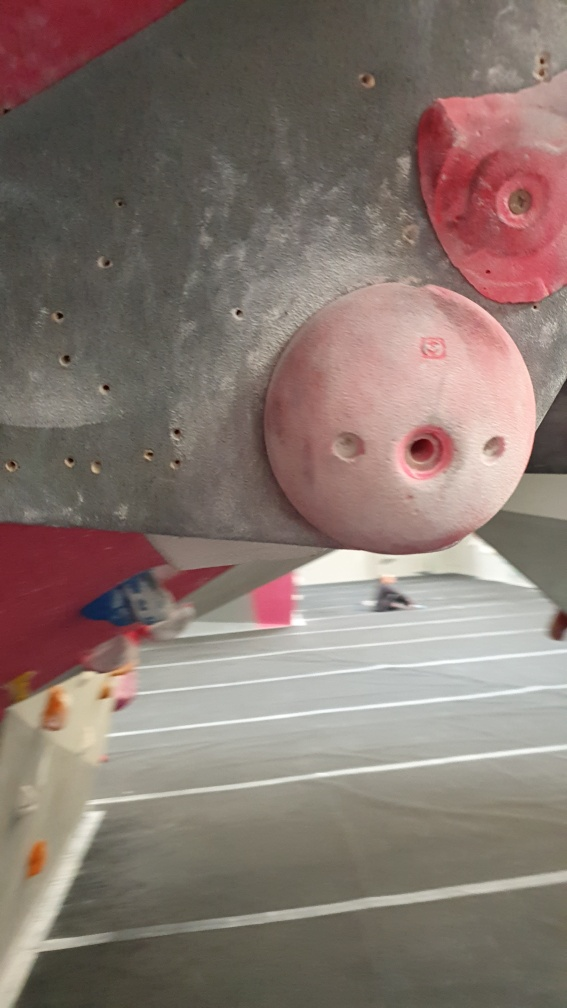Sloper: (258, 280, 535, 559)
